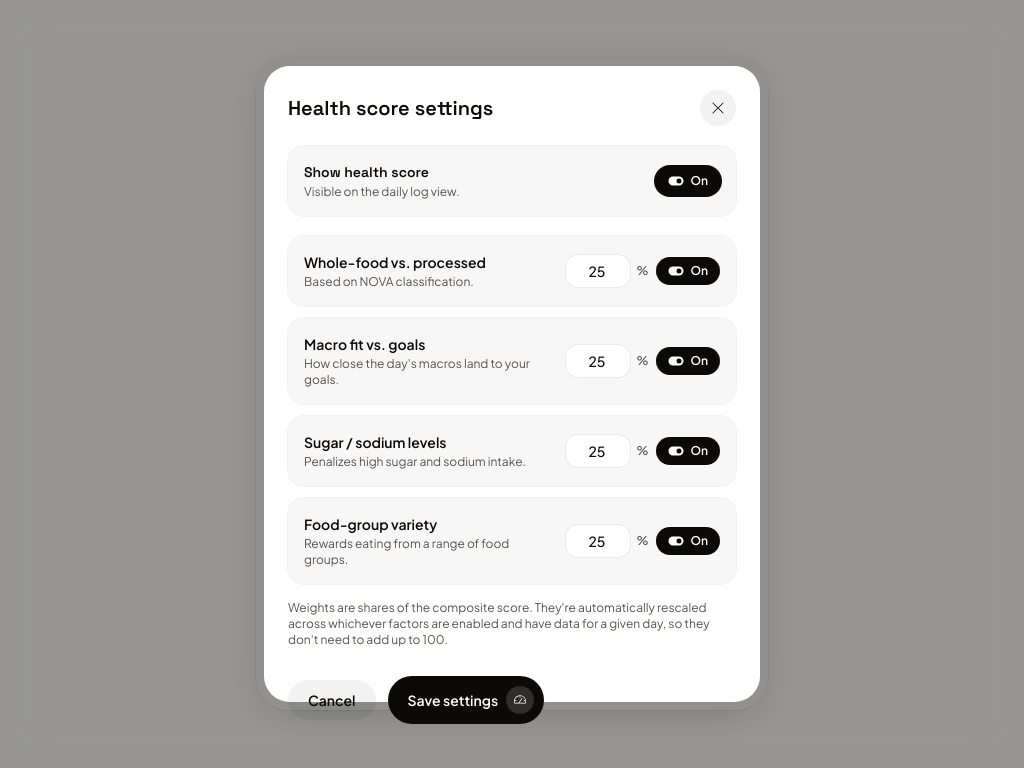
Test: HealthScoreSettingsModal — master toggle disables factor rows › visually disables (greys out + disables inputs of) the four factor rows when master is off
Check: the number field showing "25" next to "Whole-food vs. processed" is enabled, box [566,255,630,287]
Check: the number field showing "25" in the row of "Macro fit vs. goals" is enabled, box [566,345,630,377]
Step 1. Click the button with aria-label "Turn off health score" → (688, 181), box [656,167,720,195]
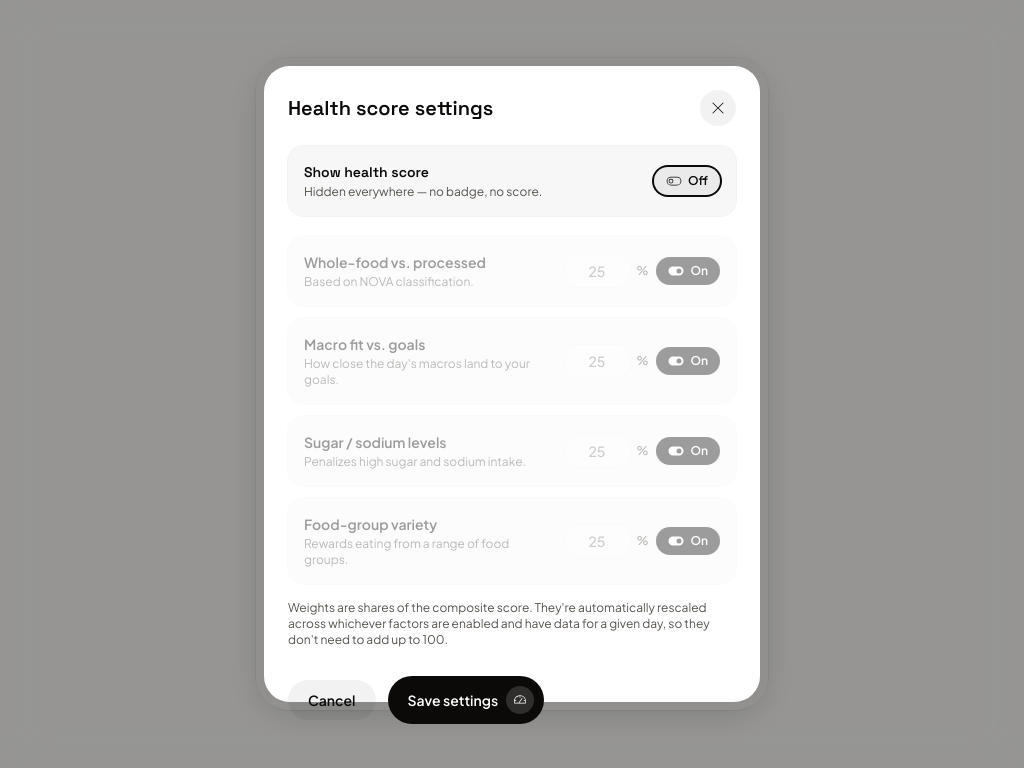
Check: the button with aria-label "Turn on health score" is shown, box [654,167,720,195]
Check: the number field showing "25" next to "Whole-food vs. processed" is disabled, box [566,255,630,287]
Check: the number field showing "25" in the row of "Macro fit vs. goals" is disabled, box [566,345,630,377]
